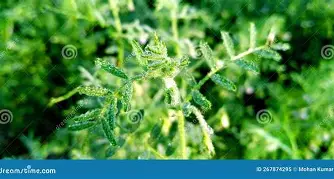crops: (0, 0, 327, 158), (277, 58, 334, 153), (38, 0, 107, 51), (0, 0, 38, 45), (16, 128, 64, 159)
